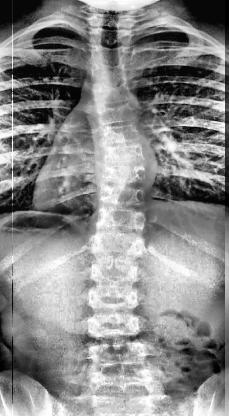Vertebrae: (89, 312, 143, 340), (90, 122, 144, 150), (90, 342, 148, 368), (86, 286, 144, 312), (92, 370, 150, 394), (98, 144, 146, 172), (98, 206, 148, 230), (92, 260, 140, 284), (90, 82, 138, 106), (98, 234, 148, 256), (98, 178, 146, 200), (92, 107, 136, 127), (92, 44, 128, 68), (92, 29, 130, 50), (94, 66, 130, 86)
